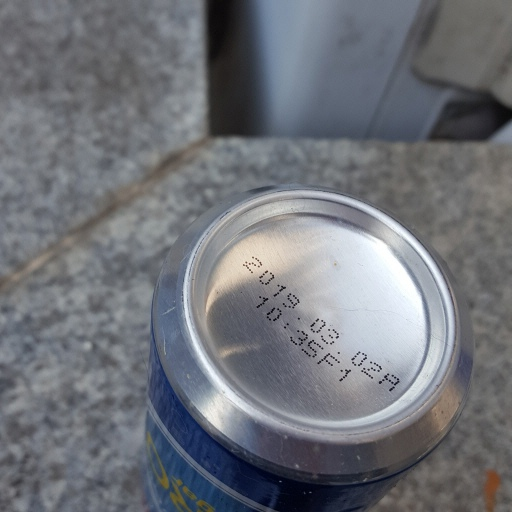Metal_0: (141, 183, 475, 512)
